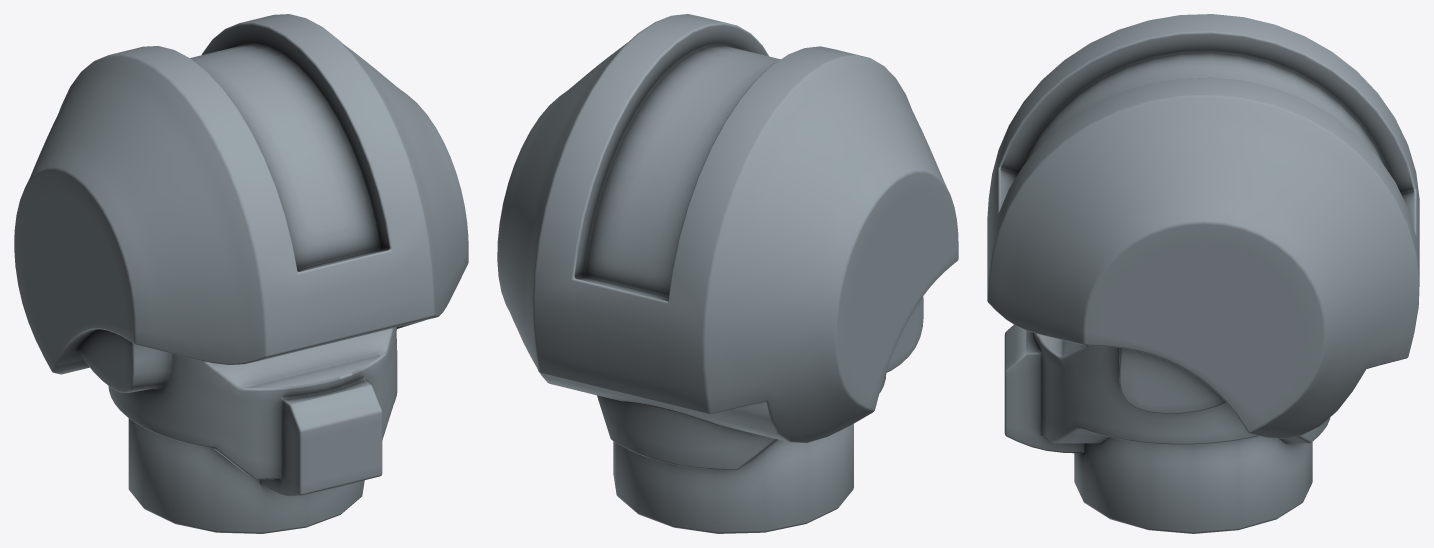
File: implant.glb
3 renders of one model, left to right at view 1: azimuth 30°, elevation 25°; view 2: azimuth 150°, elevation 25°; view 3: azimuth 270°, elevation 25°, orthographic.
Visible parts, largest first — view 1: Cylinder1; view 2: Cylinder1; view 3: Cylinder1.
Part boxes in pixels (x1,y1,x2,y2): Cylinder1: [14, 14, 468, 533]; Cylinder1: [497, 14, 958, 533]; Cylinder1: [987, 14, 1419, 533].
Bounding box in the file's own units: 57.48 × 70.9 × 64.58.
1 material, 1 textured.
